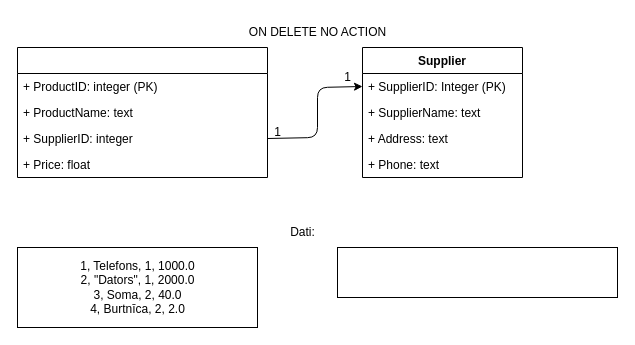
The diagram is 635 pixels wide and 345 high, and some of its shapes have lost their labels. Here are the shapes that lost their labels. From the top down, the box of each, then its label:
(16, 46, 268, 178): Produkts
(336, 246, 618, 298): 1, AI loģistika, Nekuriene, +0 0000-000 2, CLV loģistika, LV, +371 00000000
